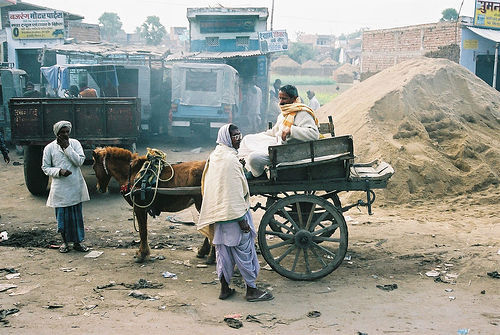horse: (89, 144, 230, 266)
